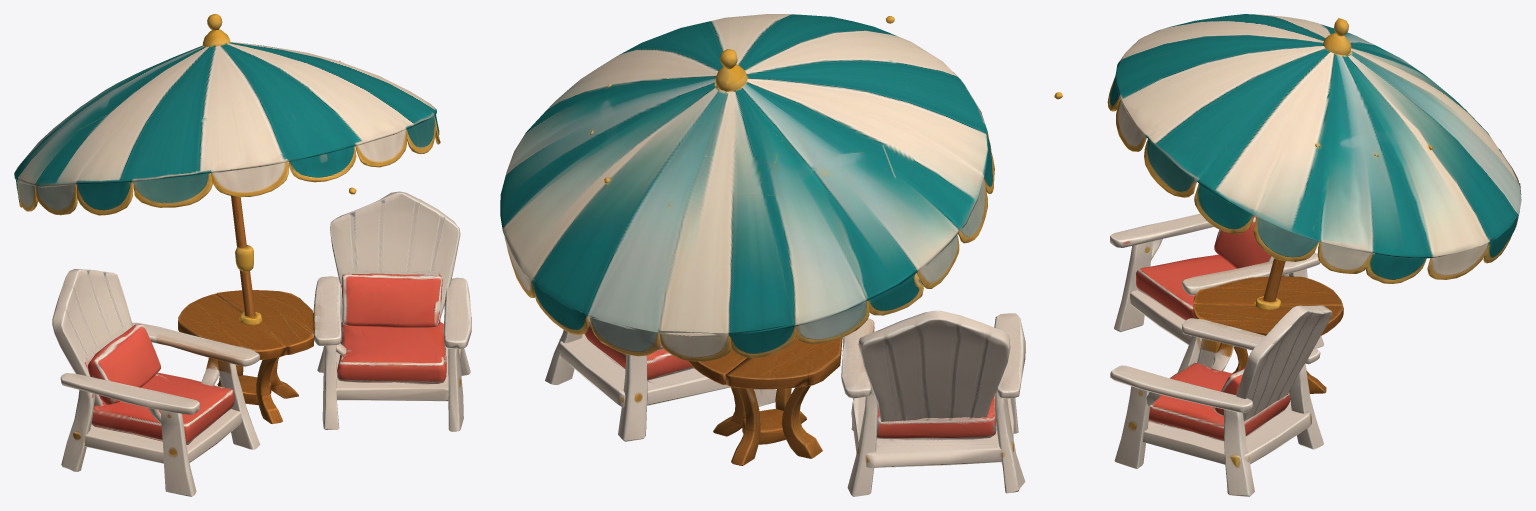
The model's file is terrace.glb.
3 renders of one model, left to right at view 1: azimuth 30°, elevation 25°; view 2: azimuth 150°, elevation 25°; view 3: azimuth 270°, elevation 25°, orthographic. The views are drawn at different scales.
Visible parts, largest first — view 1: terrace_LOD0; view 2: terrace_LOD0; view 3: terrace_LOD0.
Part boxes in pixels (x1,y1,x2,y2): terrace_LOD0: (14, 14, 471, 496); terrace_LOD0: (500, 14, 1025, 496); terrace_LOD0: (1054, 14, 1521, 496).
Bounding box in the file's own units: 1 × 0.8734 × 0.9804.
Materials: 1 (1 with a texture image).
